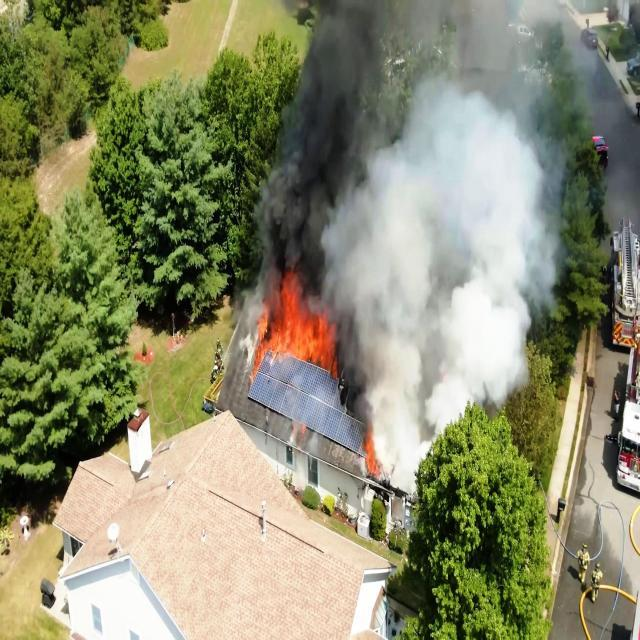Fire: (258, 271, 334, 378)
Smoke: (370, 100, 528, 324), (273, 13, 369, 235)
